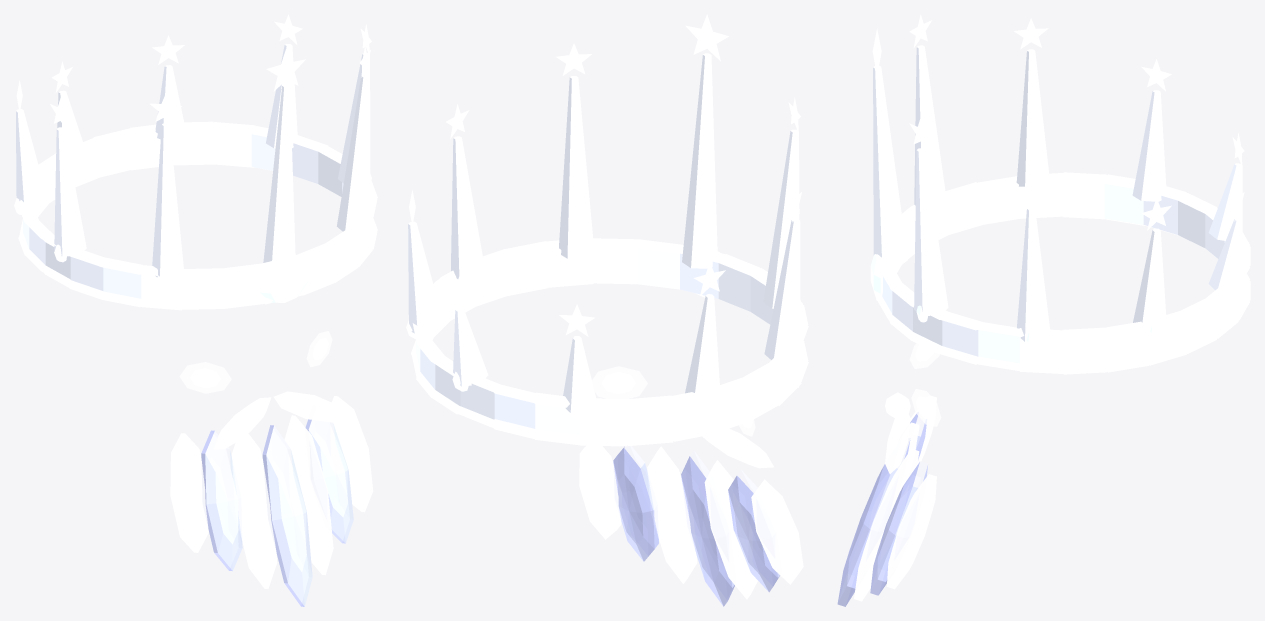
File: lord_long_table_crown.glb
3 renders of one model, left to right at view 1: azimuth 30°, elevation 25°; view 2: azimuth 150°, elevation 25°; view 3: azimuth 270°, elevation 25°, orthographic. The views are drawn at different scales.
Parts seen in each view (by area): view 1: lord_long_table_crown; view 2: lord_long_table_crown; view 3: lord_long_table_crown.
Part boxes in pixels (left/top/right/bottom): lord_long_table_crown: left=14, top=14, right=377, bottom=606; lord_long_table_crown: left=406, top=14, right=808, bottom=606; lord_long_table_crown: left=837, top=14, right=1250, bottom=606.
Bounding box in the file's own units: 1.12 × 1.85 × 1.2.
